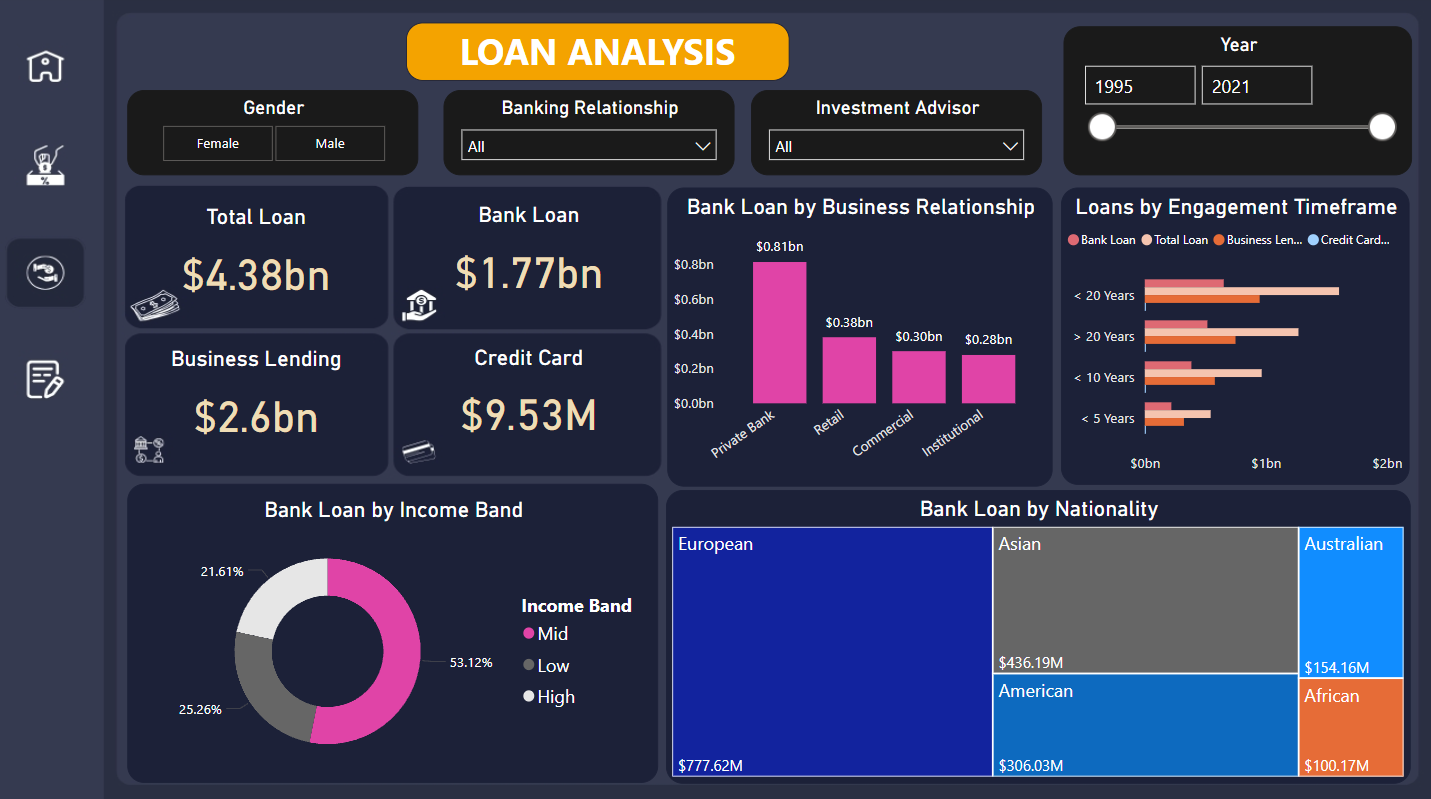

The dashboard page shown, as its layout file describes it:
{"tool":"powerbi","page":{"name":"Loan","canvas":[1280,720],"ordinal":2},"visuals":[{"type":"actionButton","box":[8.6,31.5,70.2,63],"z":0},{"type":"actionButton","box":[8.6,121.7,70.2,63],"z":1000},{"type":"actionButton","box":[10,214.8,70.2,63],"z":2000},{"type":"actionButton","box":[8.6,309.3,70.2,63],"z":3000},{"type":"card","title":"Total Loan","fields":{"Values":["DAX Measures.Total Loan"]},"box":[122.2,185.9,218.4,107.9],"z":4000},{"type":"card","title":"Business Lending","fields":{"Values":["DAX Measures.Business Lending"]},"box":[122.2,313.2,218.4,106.6],"z":5000},{"type":"card","title":"Credit Card ","fields":{"Values":["DAX Measures.Credit Cards Balance"]},"box":[363.9,311.9,221,106.6],"z":6000},{"type":"card","title":"Bank Loan","fields":{"Values":["DAX Measures.Bank Loan"]},"box":[363.9,184.6,221,106.6],"z":7000},{"type":"donutChart","fields":{"Category":["Clients - Banking.Income Band"],"Y":["DAX Measures.Bank Loan"]},"box":[117,435.4,473.1,266.5],"z":8000},{"type":"treemap","title":"Bank Loan by Nationality","fields":{"Details":["Clients - Banking.Nationality"],"Values":["DAX Measures.Bank Loan"]},"box":[596.6,440.6,662.9,261.3],"z":9000},{"type":"columnChart","title":"Bank Loan by Business Relationship","fields":{"Category":["Banking Relationship.Banking Relationship"],"Y":["DAX Measures.Bank Loan"]},"box":[597.9,171.6,343.1,266.5],"z":10000},{"type":"clusteredBarChart","title":"Loans by Engagement Timeframe","fields":{"Category":["Clients - Banking.Engagement Timeframe"],"Y":["DAX Measures.Bank Loan","DAX Measures.Total Loan","DAX Measures.Business Lending","DAX Measures.Credit Cards Balance"]},"box":[948.8,171.6,310.6,265.2],"z":11000},{"type":"slicer","title":"Investment Advisor","fields":{"Values":["Investment Advisor.Investment Advisor"]},"box":[672,84.5,259.4,76],"z":12000},{"type":"slicer","title":"Banking Relationship","fields":{"Values":["Banking Relationship.Banking Relationship"]},"box":[398.1,84.5,259.4,76],"z":13000},{"type":"slicer","title":"Year","fields":{"Values":["Clients - Banking.Joined Bank.Variation.Date Hierarchy.Year"]},"box":[950.1,27.3,310.6,132.6],"z":14000},{"type":"slicer","title":"Gender","fields":{"Values":["Gender.Gender"]},"box":[117,84.5,259.4,76],"z":15000},{"type":"textbox","box":[365.6,24.1,341.4,51.9],"z":16000}]}

Visuals, with their boxes in screenshot pixels (x1, y1, x2, y2), scaled from the page's 1280x720 canvas onto the 1431x799 screenshot:
actionButton: {"x1": 10, "y1": 35, "x2": 88, "y2": 105}
actionButton: {"x1": 10, "y1": 135, "x2": 88, "y2": 205}
actionButton: {"x1": 11, "y1": 238, "x2": 90, "y2": 308}
actionButton: {"x1": 10, "y1": 343, "x2": 88, "y2": 413}
"Total Loan" card: {"x1": 137, "y1": 206, "x2": 381, "y2": 326}
"Business Lending" card: {"x1": 137, "y1": 348, "x2": 381, "y2": 466}
"Credit Card " card: {"x1": 407, "y1": 346, "x2": 654, "y2": 464}
"Bank Loan" card: {"x1": 407, "y1": 205, "x2": 654, "y2": 323}
donutChart - Clients - Banking.Income Band x DAX Measures.Bank Loan: {"x1": 131, "y1": 483, "x2": 660, "y2": 779}
"Bank Loan by Nationality" treemap: {"x1": 667, "y1": 489, "x2": 1408, "y2": 779}
"Bank Loan by Business Relationship" columnChart: {"x1": 668, "y1": 190, "x2": 1052, "y2": 486}
"Loans by Engagement Timeframe" clusteredBarChart: {"x1": 1061, "y1": 190, "x2": 1408, "y2": 485}
"Investment Advisor" slicer: {"x1": 751, "y1": 94, "x2": 1041, "y2": 178}
"Banking Relationship" slicer: {"x1": 445, "y1": 94, "x2": 735, "y2": 178}
"Year" slicer: {"x1": 1062, "y1": 30, "x2": 1409, "y2": 177}
"Gender" slicer: {"x1": 131, "y1": 94, "x2": 421, "y2": 178}
textbox: {"x1": 409, "y1": 27, "x2": 790, "y2": 84}
